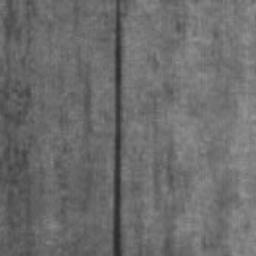Scratches: (112, 0, 127, 256)
